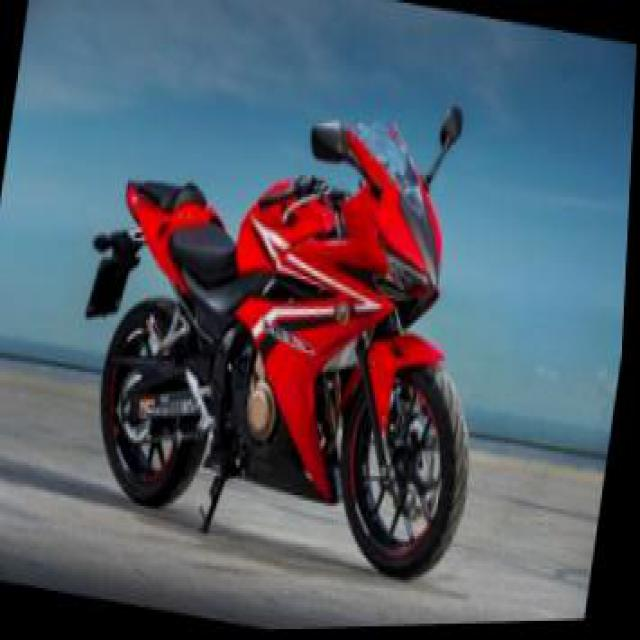CBR500R: (79, 64, 518, 603)
